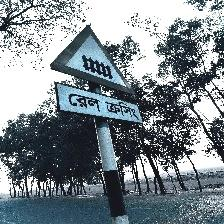Rail-crossing: (50, 24, 142, 128)
